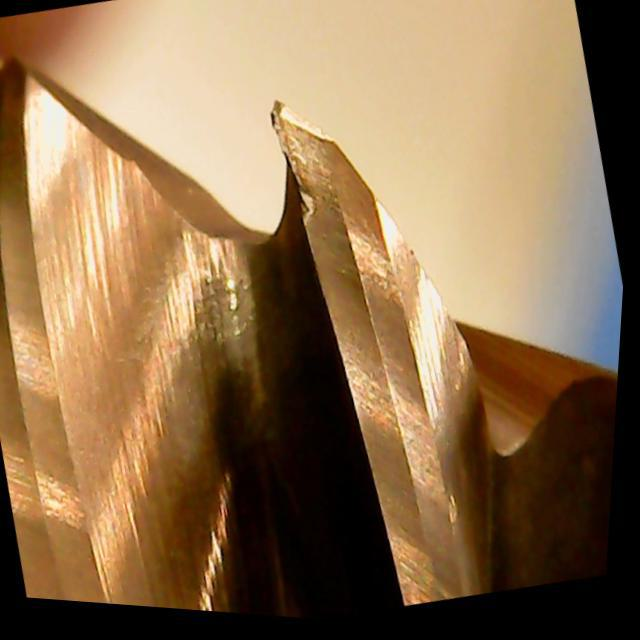Tool-wear-class-1: (243, 82, 439, 418)
